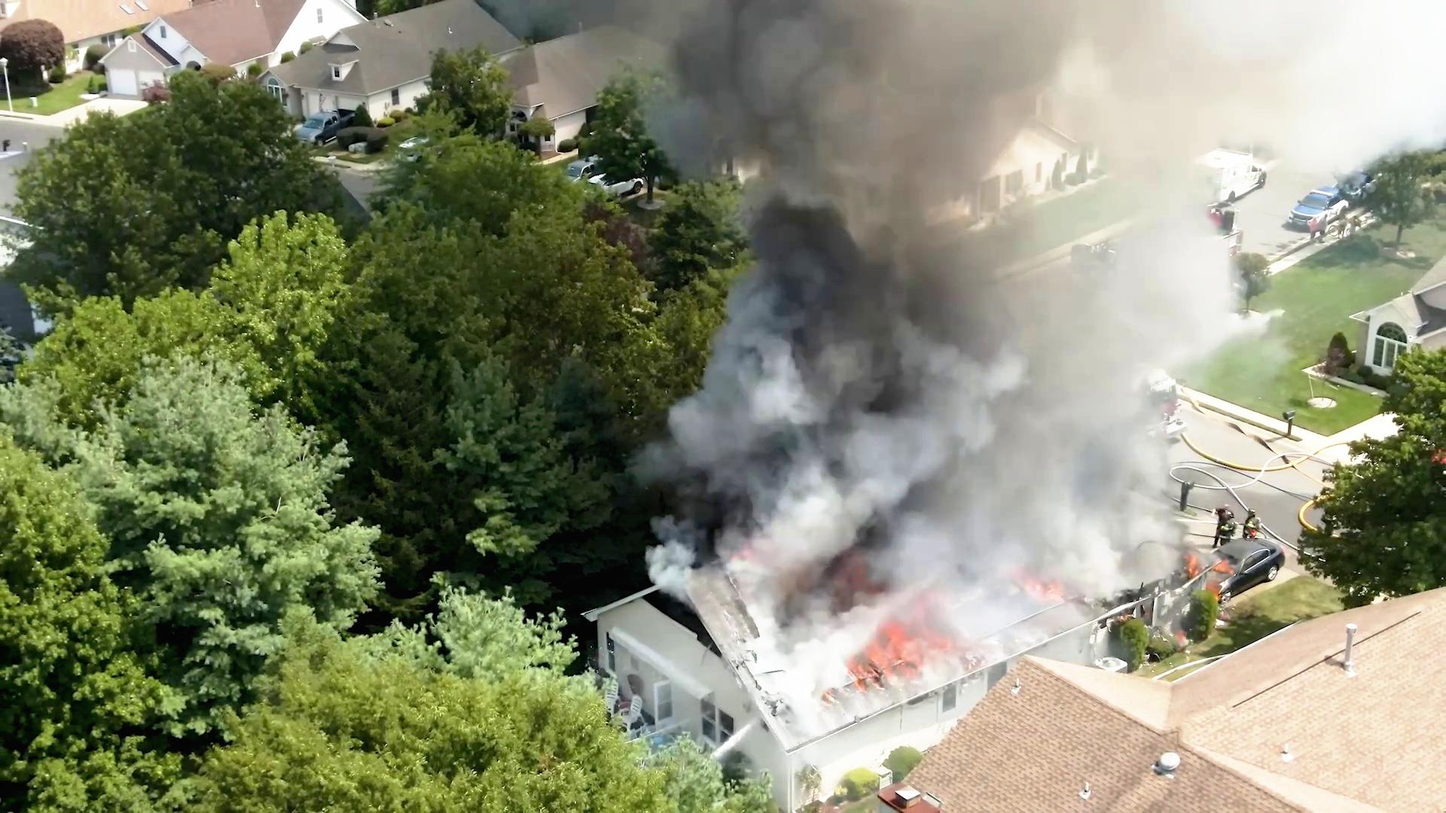smoke: (718, 221, 959, 547), (674, 0, 1010, 202)
